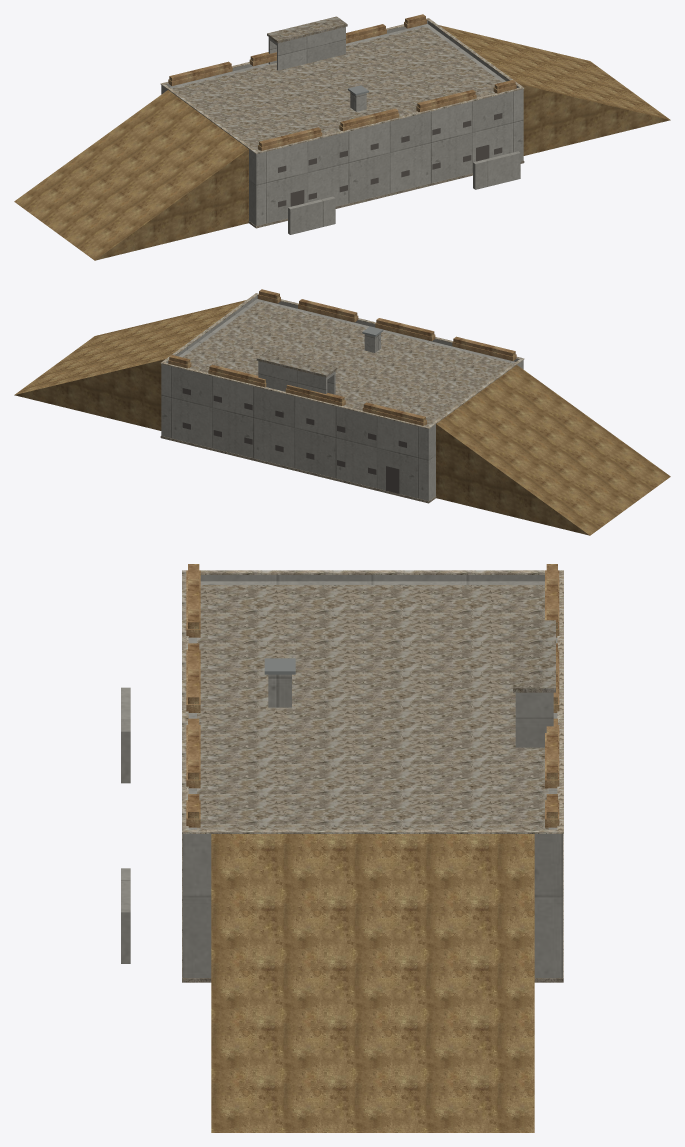
The model's file is mb-command-bunker.zfix-v21.lod1.glb.
The picture shows the model from 3 angles, top to bottom: view 1: azimuth 30°, elevation 25°; view 2: azimuth 150°, elevation 25°; view 3: azimuth 270°, elevation 25°; orthographic projection. The views are drawn at different scales.
Parts seen in each view (by area): view 1: mb-command-bunker; view 2: mb-command-bunker; view 3: mb-command-bunker.
Part boxes in pixels (x1,y1,x2,y2): mb-command-bunker: [14, 14, 670, 260]; mb-command-bunker: [14, 289, 670, 535]; mb-command-bunker: [121, 564, 563, 1132].
Bounding box in the file's own units: 56 × 9.42 × 18.64.
Materials: 4 (3 with a texture image).
